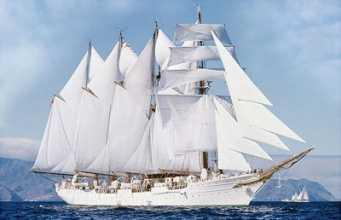fanchuan: (31, 6, 318, 208)
